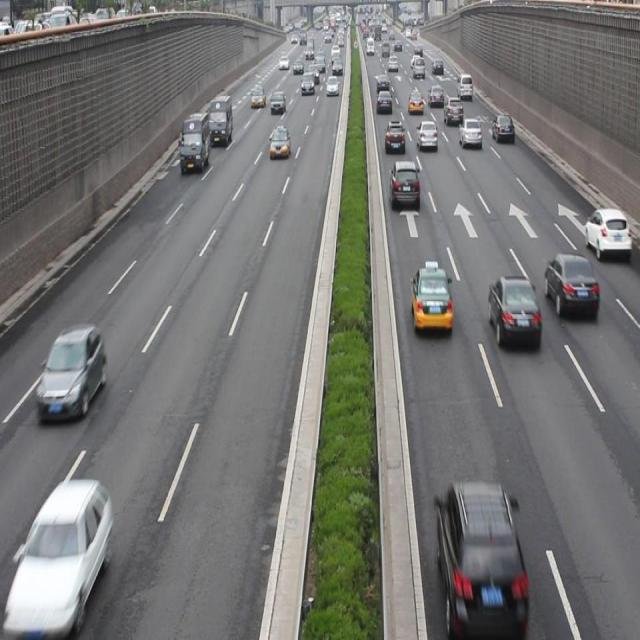car: (12, 477, 112, 629), (438, 480, 525, 628), (35, 324, 106, 419), (488, 276, 539, 349), (545, 252, 598, 320), (408, 265, 453, 334), (582, 206, 628, 255), (383, 119, 405, 154), (491, 112, 514, 144), (269, 124, 290, 158), (416, 120, 438, 152), (458, 117, 481, 147), (443, 94, 462, 126)
truck: (179, 112, 210, 174), (389, 158, 421, 212), (206, 96, 233, 146)
